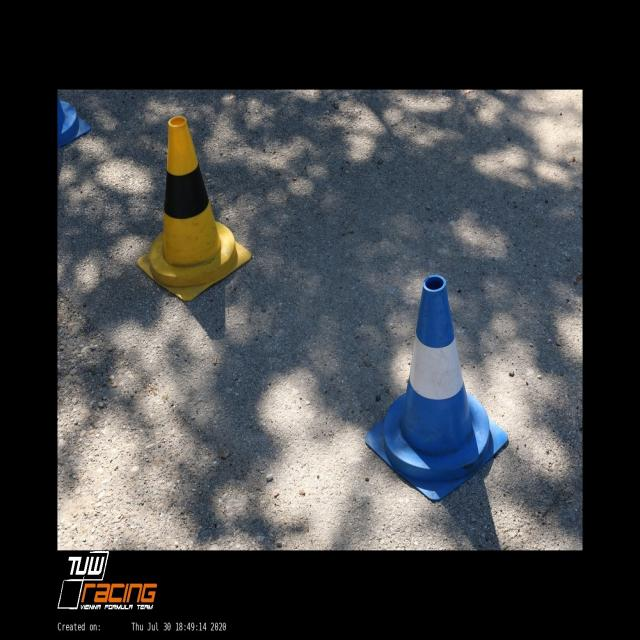blue_cone: (365, 274, 508, 500), (58, 94, 91, 148)
yellow_cone: (136, 116, 252, 301)
